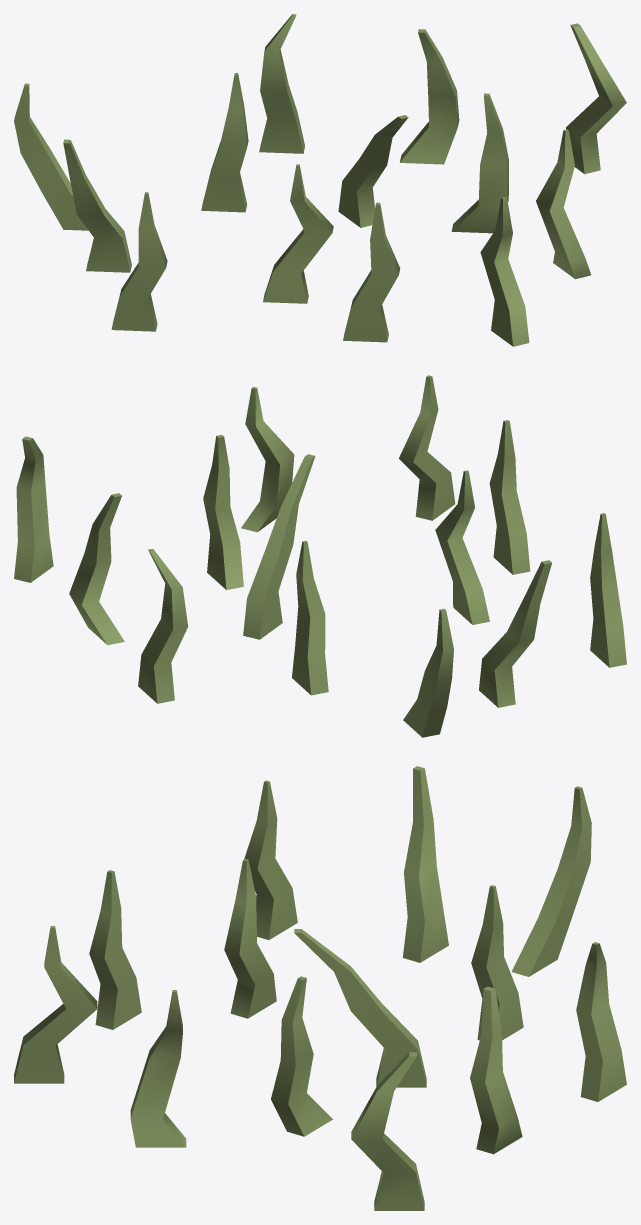
The model's file is Grass.fbx.
The picture shows the model from 3 angles, top to bottom: view 1: azimuth 30°, elevation 25°; view 2: azimuth 150°, elevation 25°; view 3: azimuth 270°, elevation 25°; orthographic projection. The views are drawn at different scales.
Visible parts, largest first — view 1: polySurface67; view 2: polySurface67; view 3: polySurface67.
Boxes of the visible parts, box(x1,y1,x2,y2) form: polySurface67: box(14, 14, 626, 346); polySurface67: box(14, 375, 626, 737); polySurface67: box(14, 766, 626, 1210).
Bounding box in the file's own units: 127 × 31.09 × 109.
